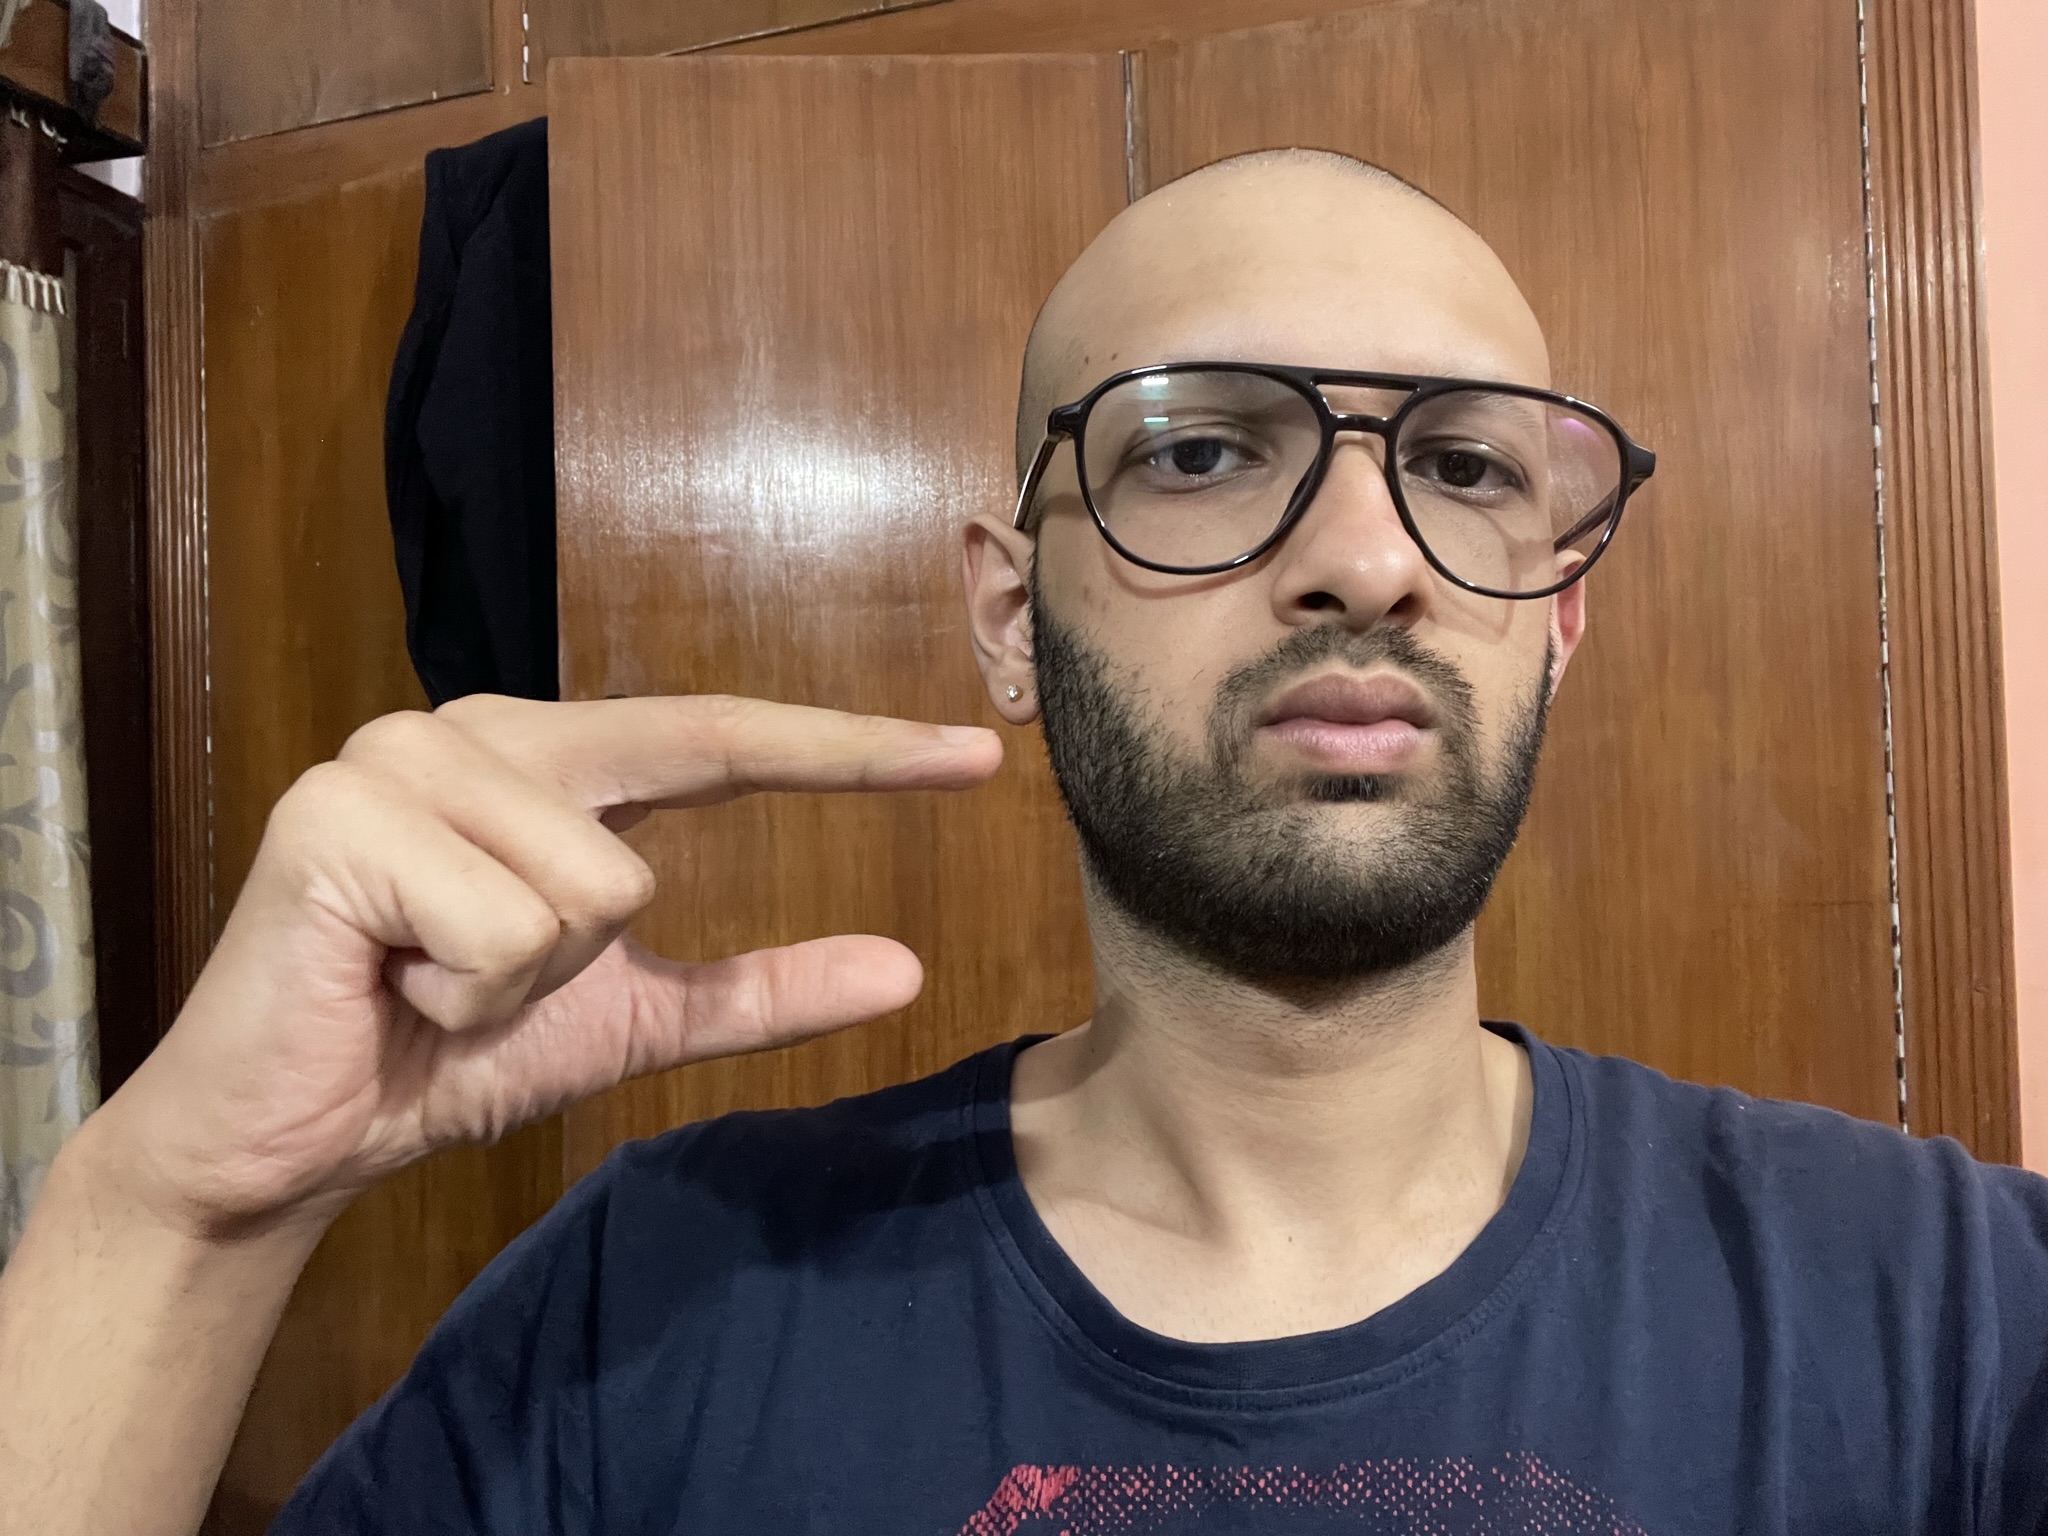No: (98, 687, 1009, 1226)
